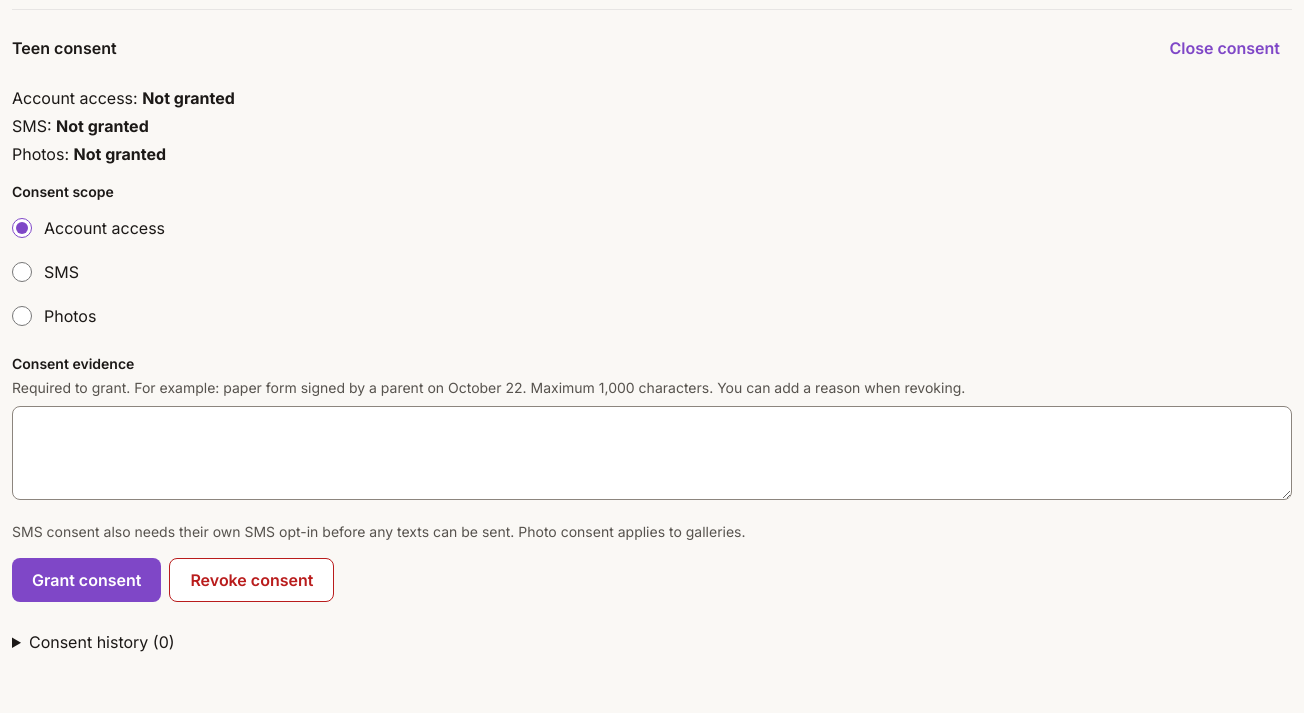
Scenario: saves the chosen scope and reloads the recorded history
Click the radio button labelled "SMS" at (22, 272), box [12,262,32,282]
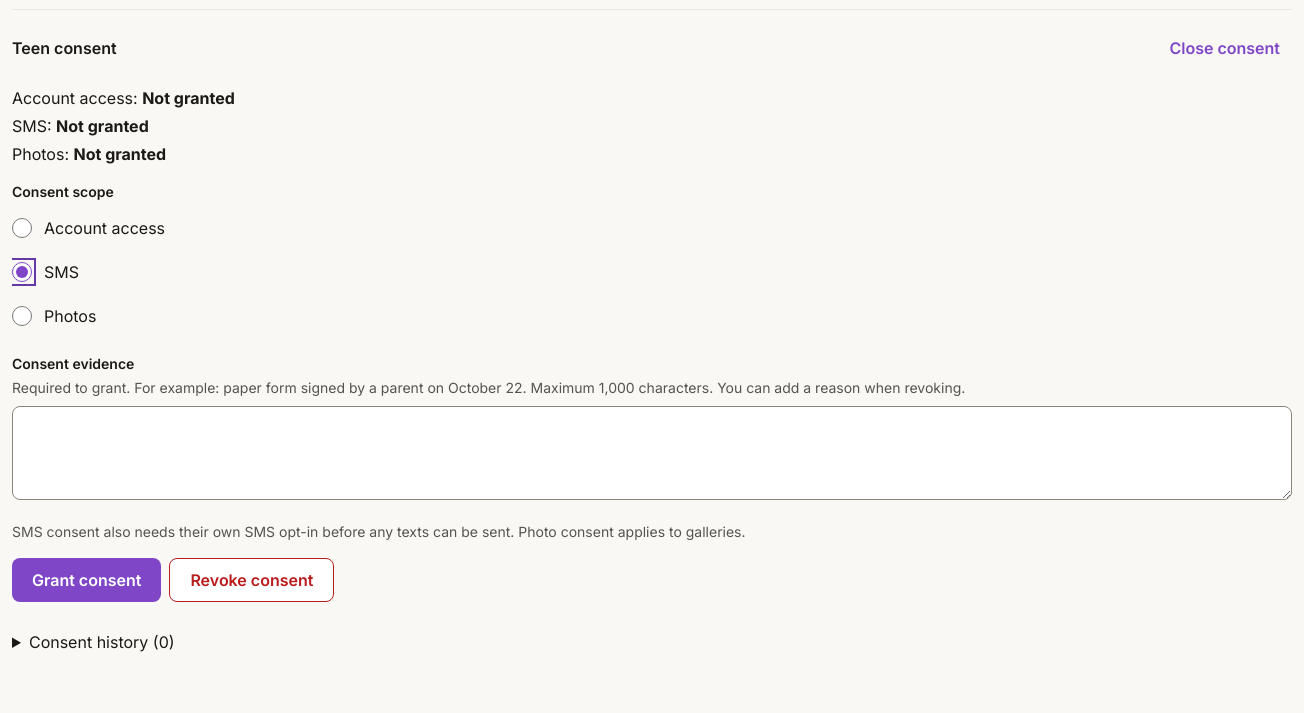
Type "Parent signed SMS form" into the text box labelled "Consent evidence" at (652, 453), box [12,406,1292,500]
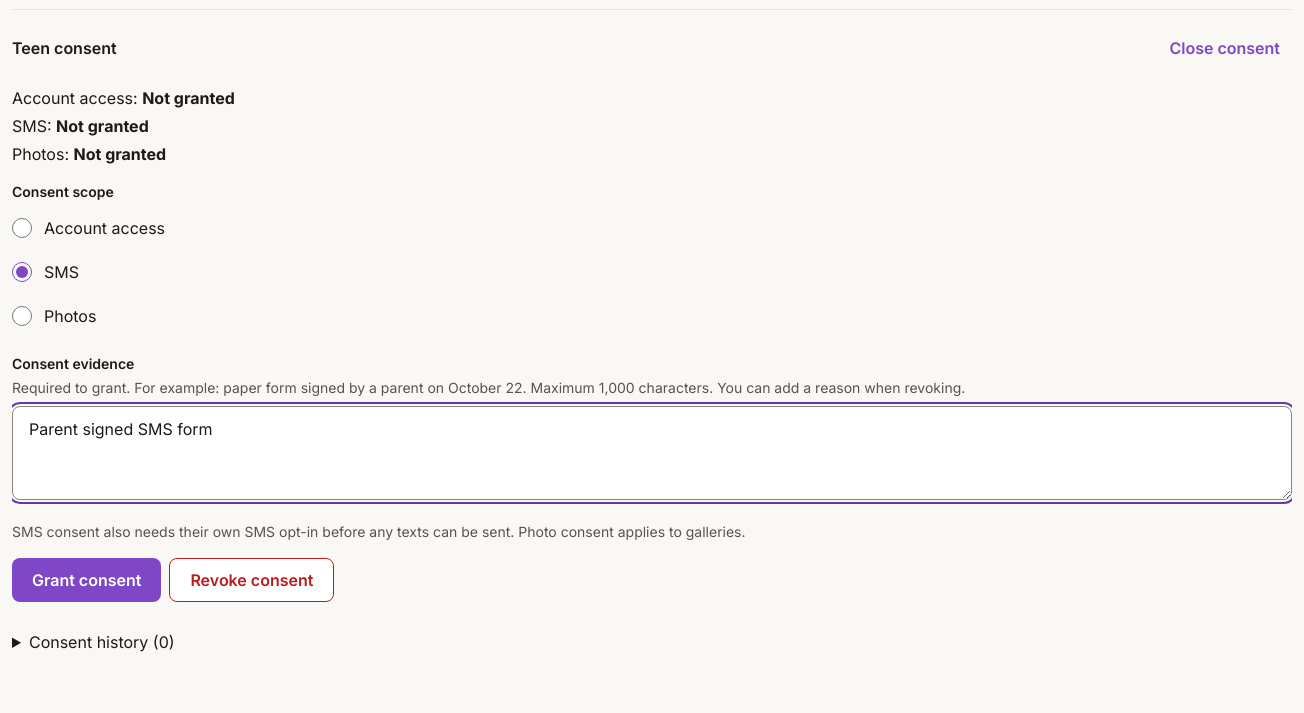
Click the button "Grant consent" at (87, 580), box [12,558,161,602]
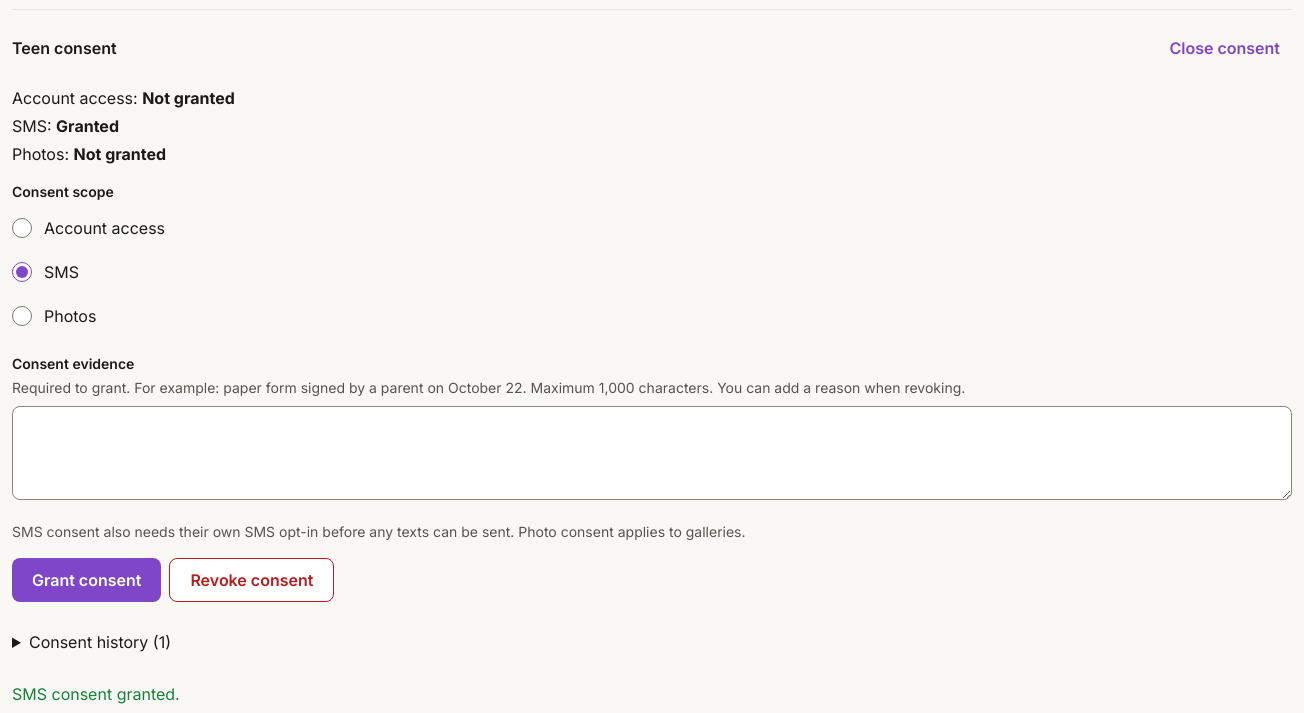
Expected: the message reads "SMS consent granted.", [12,684,180,704]
Click the heading "Consent history (1)" at (100, 642), box [29,632,171,652]
(page scrolled)
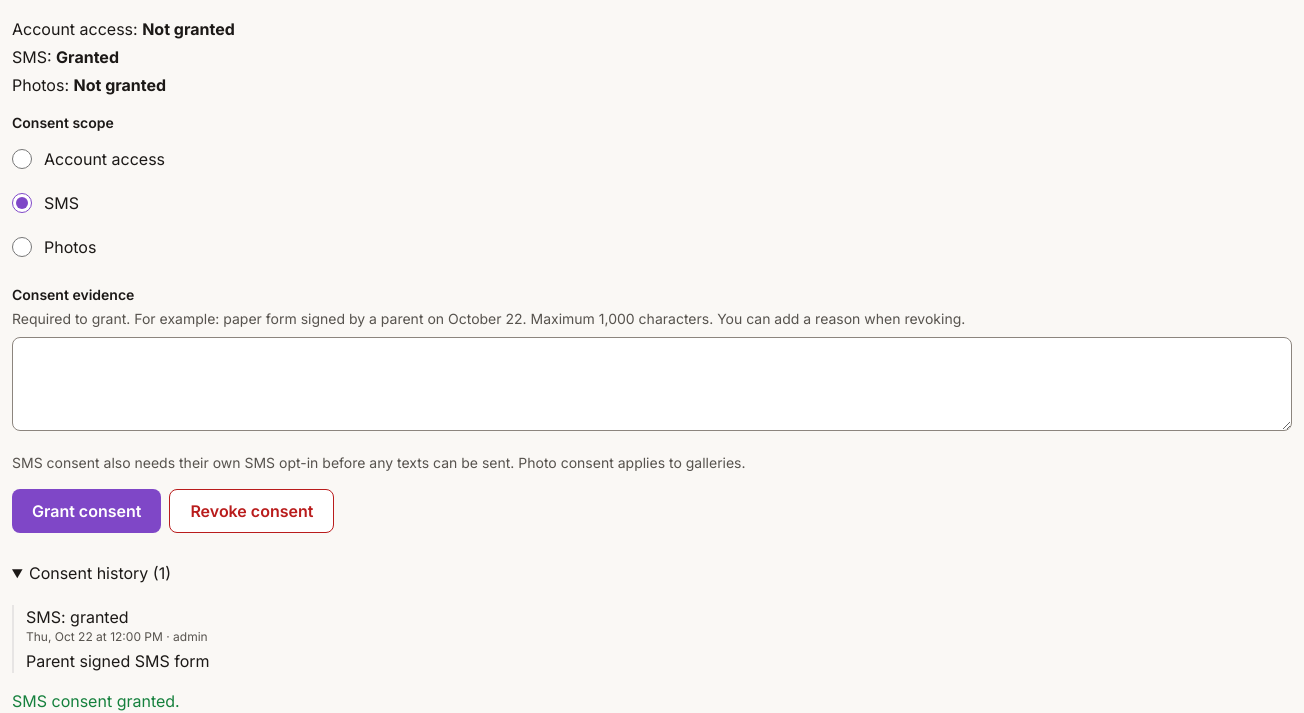
Expected: the text "Parent signed SMS form" is shown, [26,651,210,671]
